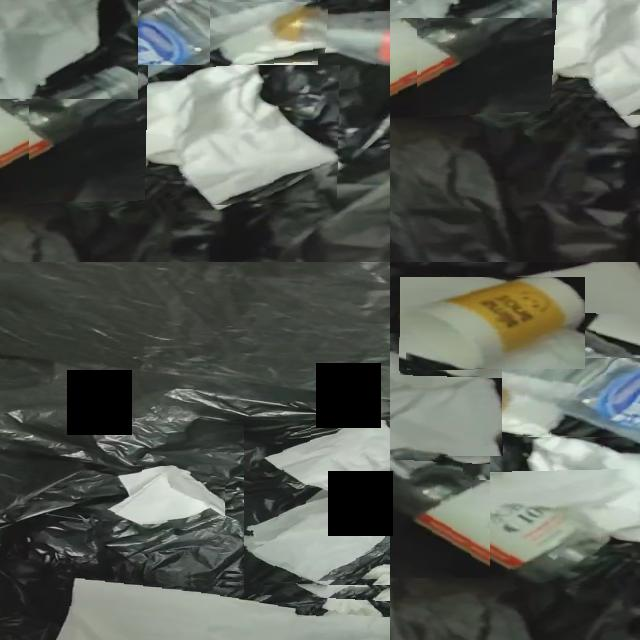bottle: (12, 0, 319, 104), (390, 453, 609, 578), (463, 311, 640, 444), (0, 61, 148, 171), (390, 0, 555, 98), (273, 11, 390, 66)
dixie_cup: (405, 277, 585, 370)
paper: (29, 65, 339, 206), (417, 0, 640, 118), (244, 420, 390, 583), (58, 580, 390, 640), (483, 262, 640, 358), (490, 455, 640, 544), (390, 351, 502, 456), (0, 0, 102, 99), (210, 2, 327, 65), (109, 466, 225, 526)
